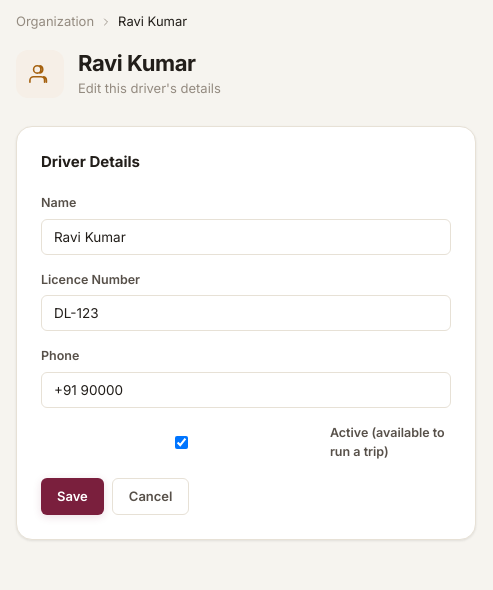
it: DriverDetail page › prefills and saves edited driver fields including the active flag
The width and height of the screenshot is (493, 590).
Replace the text in the field labelled "Name" with "Ravi K": (246, 237) [41,219,451,255]
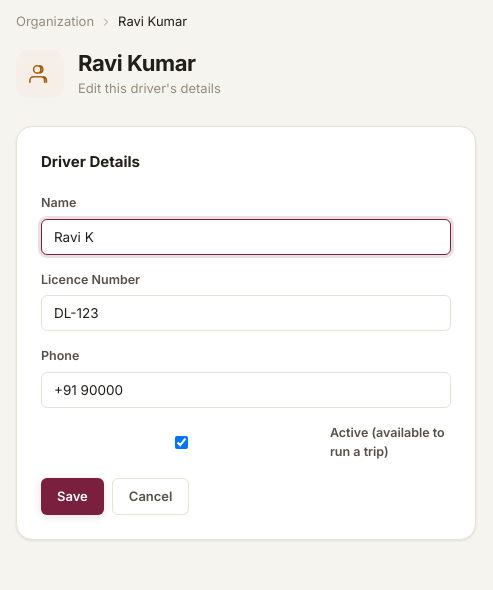
Click the checkbox: (181, 443) [41,436,322,449]
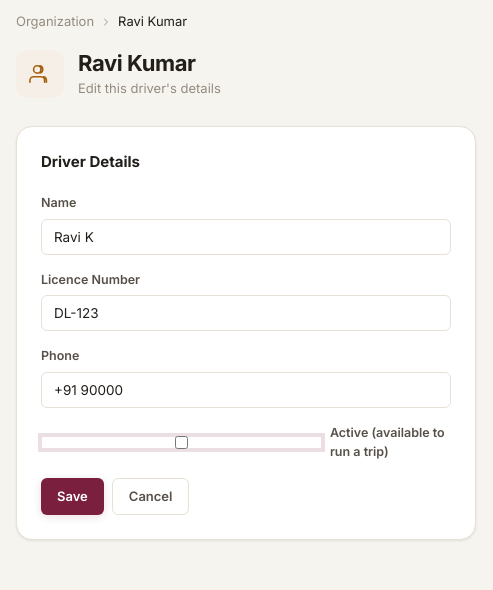
Click the button "Save": (72, 496) [41,478,104,515]
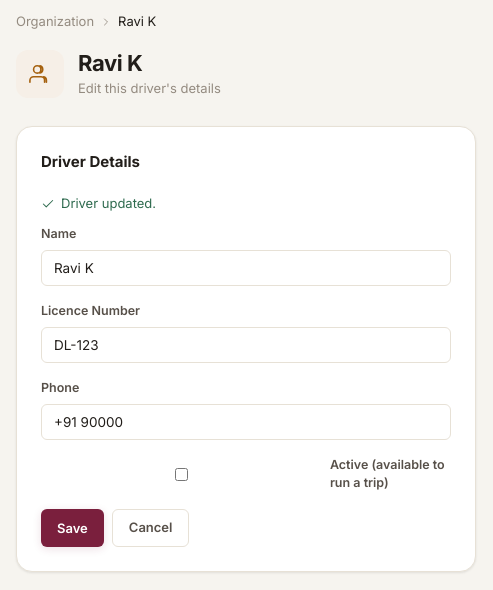
Expected: the text "Driver updated." is shown, [41,195,156,211]
